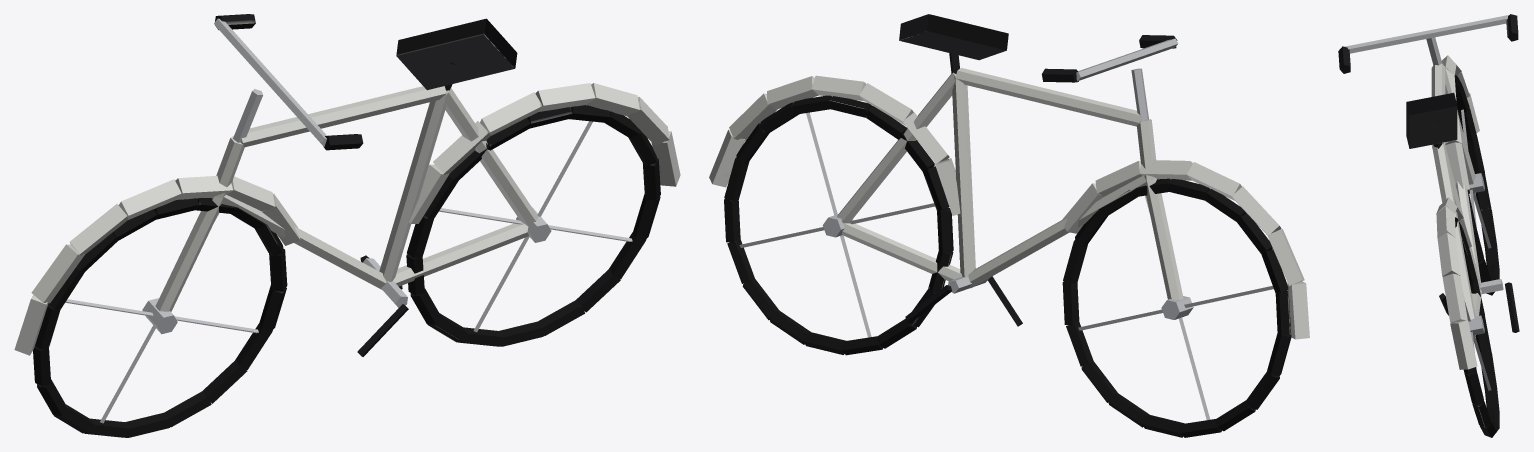
Rendered from kolo_b08bbfca.glb.
3 views of the same model, side by side, from view 1: azimuth 30°, elevation 25°; view 2: azimuth 150°, elevation 25°; view 3: azimuth 270°, elevation 25° (orthographic). The views are drawn at different scales.
Visible parts, largest first — view 1: dum; view 2: dum; view 3: dum.
Part boxes in pixels (x1,y1,x2,y2): dum: (14, 14, 680, 437); dum: (709, 14, 1309, 437); dum: (1338, 14, 1519, 437).
Bounding box in the file's own units: 1.95 × 1.09 × 0.5905.
Materials: 1 (1 with a texture image).
